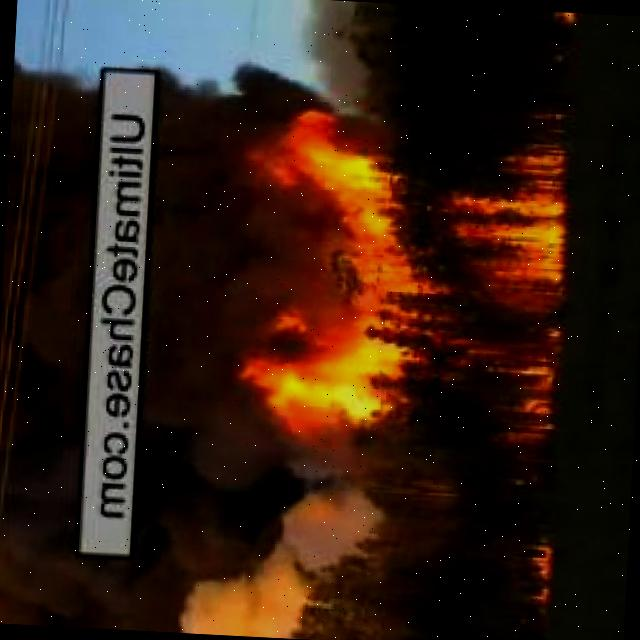fire: (217, 104, 564, 451), (524, 537, 552, 616)
